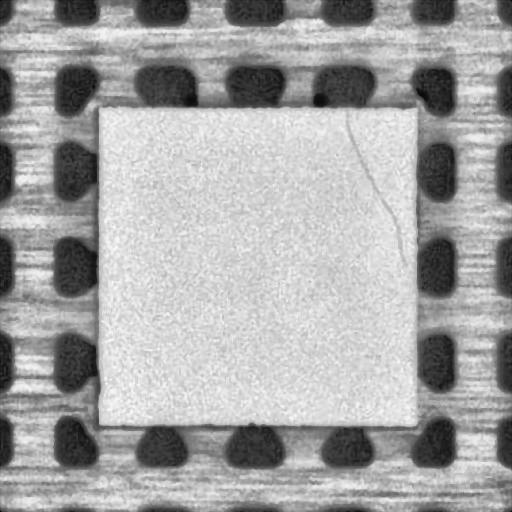DIE_CRACK: (344, 108, 406, 268)
